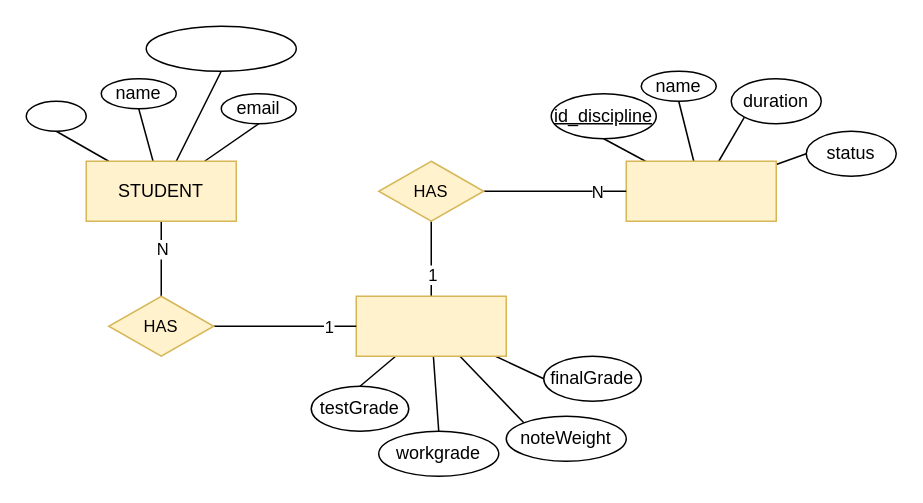
Image size: 923x503. Some labels were removed from this diagram. The box of each missing label's shape, as (x1, y1, x2, y2) in pixels:
birthdayDate: (145, 25, 296, 71)
DISCIPLINE: (625, 160, 776, 221)
ra: (25, 100, 86, 131)
RECORD: (355, 295, 506, 356)
